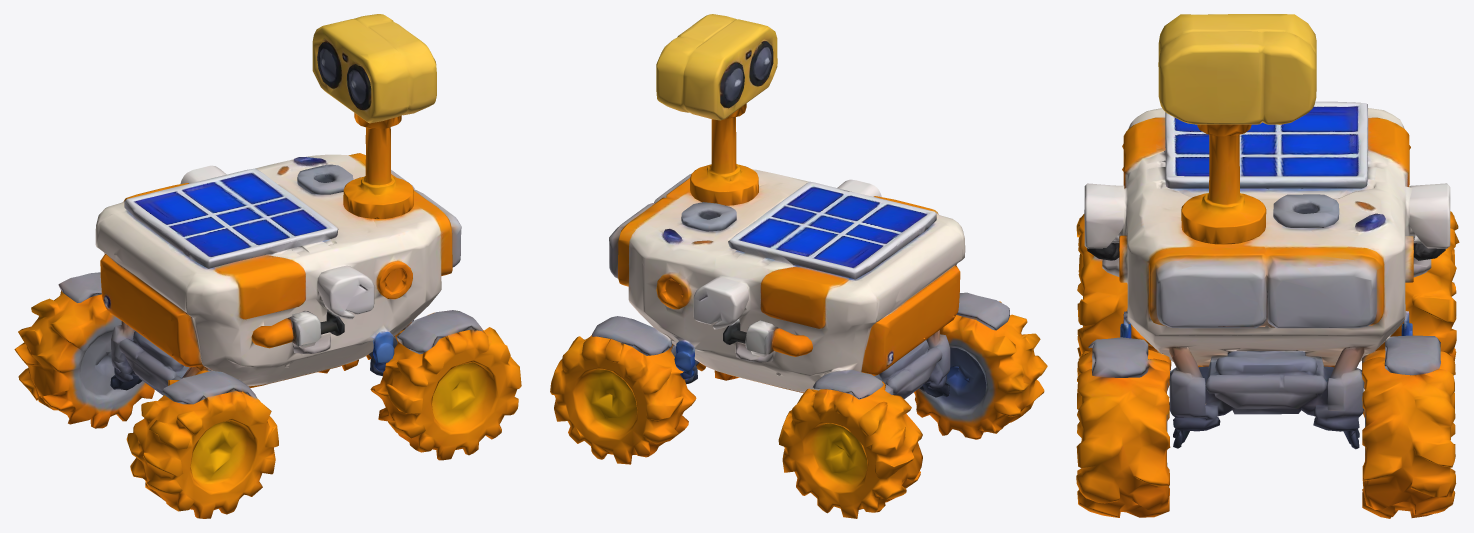
File: rover.glb
3 views of the same model, side by side, from view 1: azimuth 30°, elevation 25°; view 2: azimuth 150°, elevation 25°; view 3: azimuth 270°, elevation 25° (orthographic). The views are drawn at different scales.
Visible parts, largest first — view 1: tripo_node_9f4f293c-5eaf-4b40-aa7a-44e06d1af2ac; view 2: tripo_node_9f4f293c-5eaf-4b40-aa7a-44e06d1af2ac; view 3: tripo_node_9f4f293c-5eaf-4b40-aa7a-44e06d1af2ac.
Boxes of the visible parts, left/top/right/bottom form: tripo_node_9f4f293c-5eaf-4b40-aa7a-44e06d1af2ac: left=14, top=14, right=521, bottom=518; tripo_node_9f4f293c-5eaf-4b40-aa7a-44e06d1af2ac: left=550, top=14, right=1047, bottom=518; tripo_node_9f4f293c-5eaf-4b40-aa7a-44e06d1af2ac: left=1076, top=14, right=1459, bottom=518.
Bounding box in the file's own units: 1 × 0.9942 × 0.7419.
Materials: 1 (1 with a texture image).
